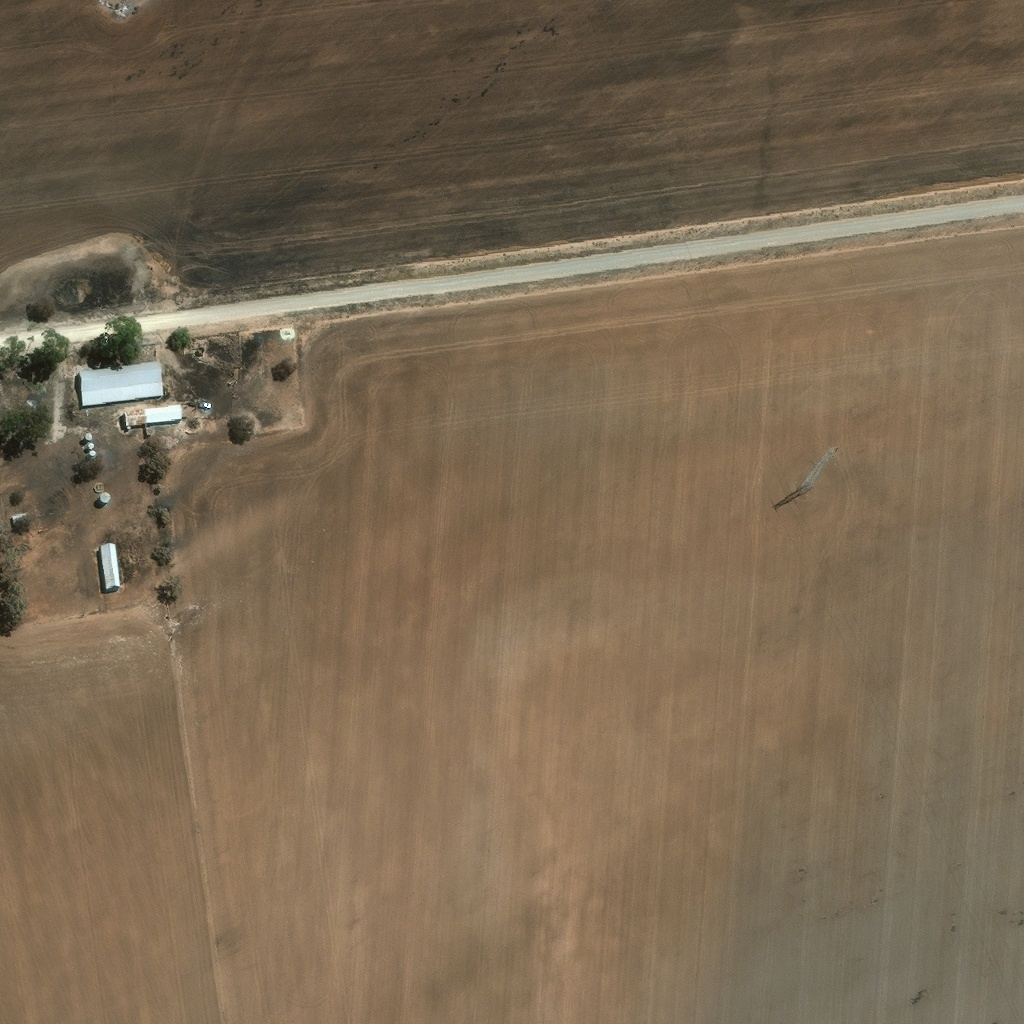0 no-damage: (80, 359, 166, 405), (103, 543, 122, 588), (15, 510, 28, 520), (89, 441, 95, 448), (90, 449, 97, 455)
1 minor-damage: (126, 404, 183, 424)
4 un-classified: (101, 491, 112, 503), (87, 433, 93, 439)
